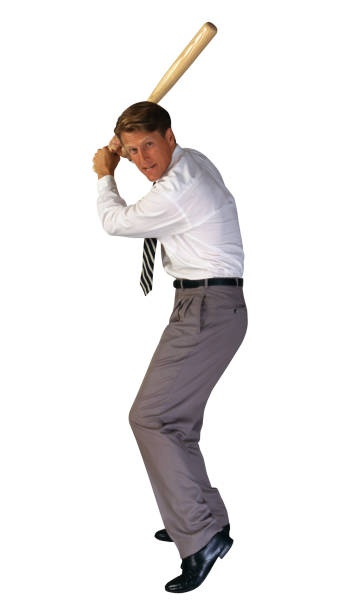bita: (145, 23, 220, 104)
